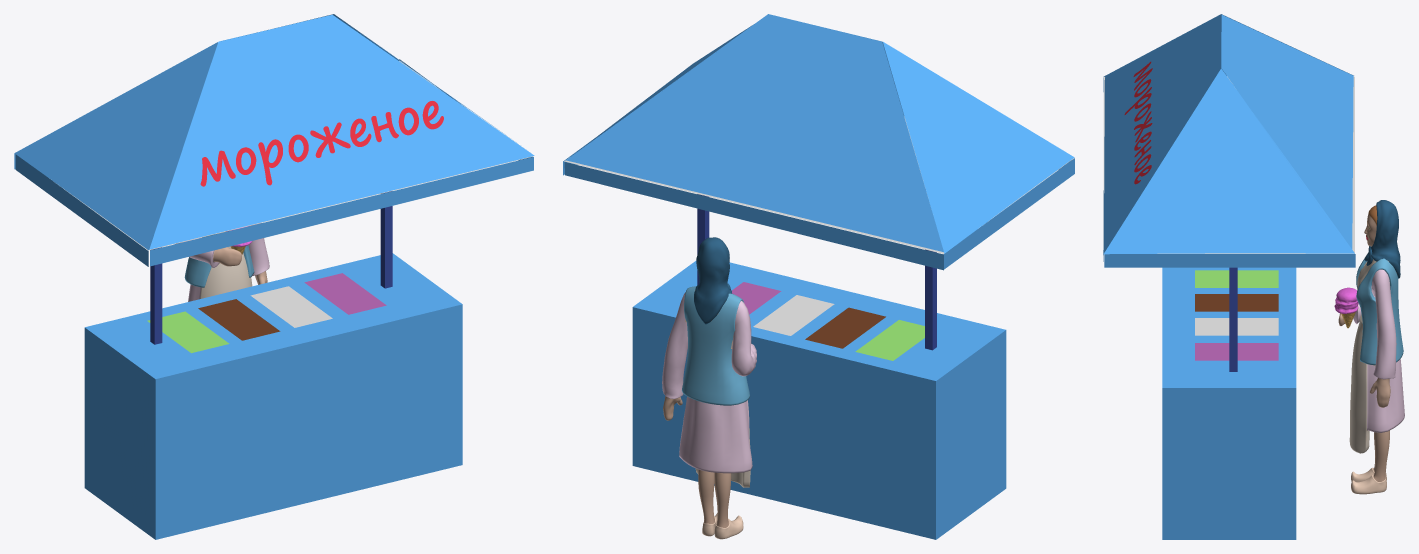
Rendered from icecream.fbx.
The picture shows the model from 3 angles, left to right: view 1: azimuth 30°, elevation 25°; view 2: azimuth 150°, elevation 25°; view 3: azimuth 270°, elevation 25°; orthographic projection. The views are drawn at different scales.
Parts seen in each view (by area): view 1: Cube, Plane.001, Plane.002, Plane.005, Text, 19407_Serbian_woman_v1, Plane.008, Plane.011, Plane.009, Plane.010, Plane.012, Cube.001 (+1 smaller); view 2: Cube, Plane.003, 19407_Serbian_woman_v1, Plane.002, Plane.007, Plane.008, Plane.010, Plane.011, Plane.012, Plane, Cube.002, Plane.009; view 3: Cube, Plane.004, Plane.003, Plane.001, 19407_Serbian_woman_v1, Plane.006, Plane.009, Plane.010, Plane.011, Plane.012, Text, Cube.001 (+2 smaller).
Boxes of the visible parts, x1,y1,x2,y2 form: Cube: [84, 253, 462, 539]; Plane.001: [149, 14, 534, 249]; Plane.002: [14, 42, 217, 250]; Plane.005: [150, 157, 533, 266]; Text: [200, 101, 443, 186]; 19407_Serbian_woman_v1: [175, 223, 269, 301]; Plane.008: [15, 154, 148, 266]; Plane.011: [198, 299, 280, 340]; Plane.009: [304, 273, 386, 314]; Plane.010: [250, 286, 332, 327]; Plane.012: [147, 311, 229, 353]; Cube.001: [380, 191, 392, 288]; Cube: [632, 261, 1006, 539]; Plane.003: [566, 14, 943, 252]; 19407_Serbian_woman_v1: [662, 237, 756, 539]; Plane.002: [883, 42, 1074, 253]; Plane.007: [564, 162, 943, 270]; Plane.008: [944, 158, 1074, 269]; Plane.010: [753, 295, 834, 335]; Plane.011: [805, 307, 885, 348]; Plane.012: [855, 320, 924, 360]; Plane: [564, 116, 1073, 253]; Cube.002: [925, 249, 936, 350]; Plane.009: [732, 282, 781, 314]; Cube: [1162, 267, 1296, 539]; Plane.004: [1104, 68, 1354, 254]; Plane.003: [1221, 15, 1353, 248]; Plane.001: [1103, 14, 1221, 253]; 19407_Serbian_woman_v1: [1338, 200, 1404, 494]; Plane.006: [1104, 254, 1355, 267]; Plane.009: [1195, 343, 1278, 360]; Plane.010: [1195, 318, 1278, 335]; Plane.011: [1195, 294, 1278, 311]; Plane.012: [1195, 270, 1278, 287]; Text: [1124, 61, 1152, 184]; Cube.001: [1229, 267, 1237, 371].
Size of the model in its own units: 505 by 572 by 360.
